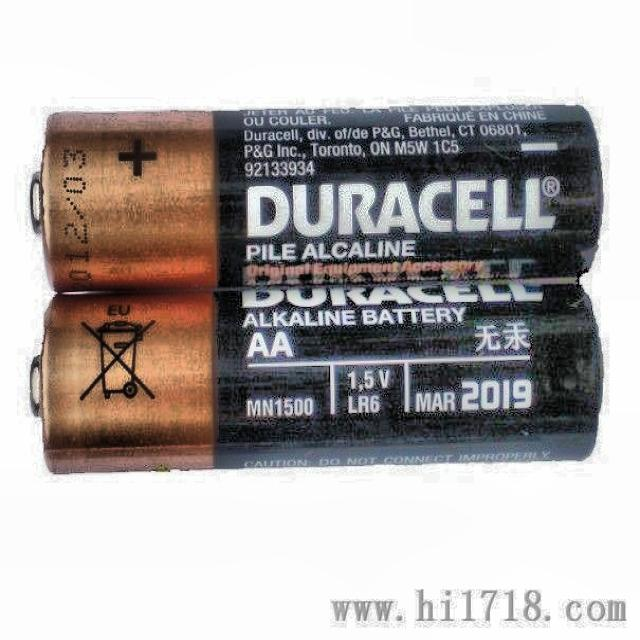Non-Valuable Waste - Batteries: (31, 284, 602, 473), (30, 106, 602, 292)
